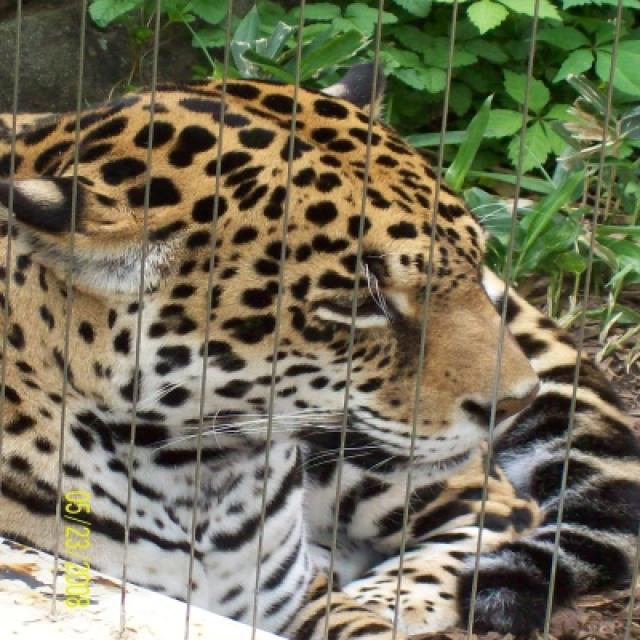Jaguar: (0, 63, 638, 638)
